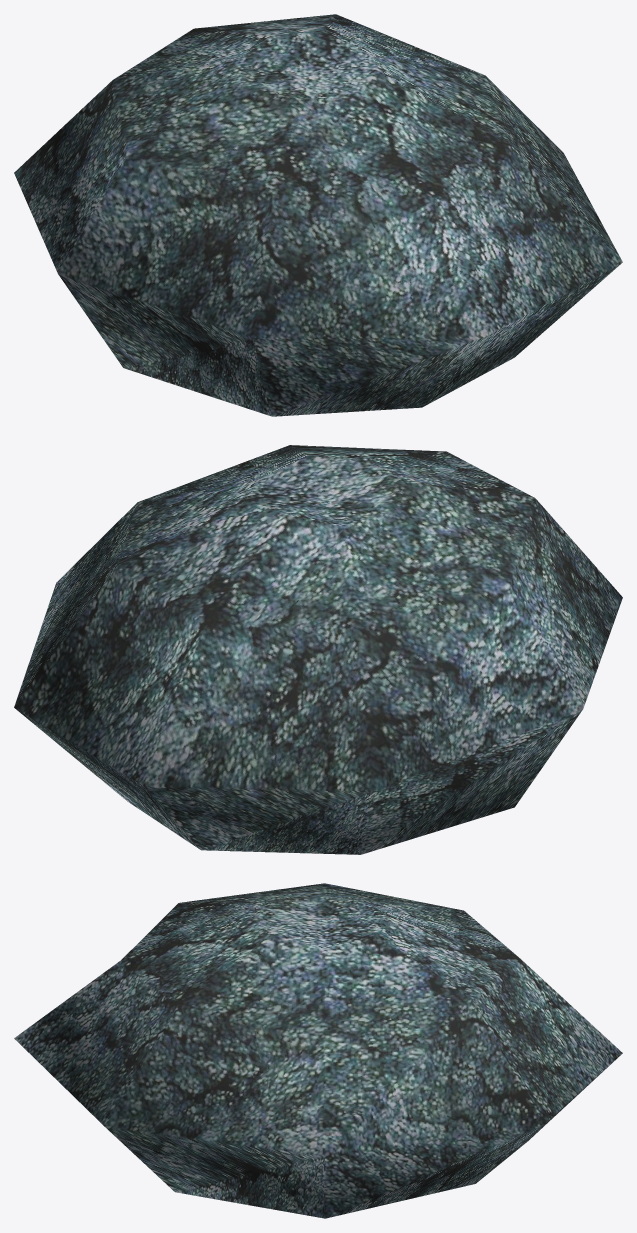
The model's file is rock_crystl_watrbush_flat_l1.fbx.
3 views of the same model, one above another, from view 1: azimuth 30°, elevation 25°; view 2: azimuth 150°, elevation 25°; view 3: azimuth 270°, elevation 25° (orthographic). The views are drawn at different scales.
Parts seen in each view (by area): view 1: mesh_node; view 2: mesh_node; view 3: mesh_node.
Boxes of the visible parts, <box> form: mesh_node: <box>14,14,622,416</box>; mesh_node: <box>14,445,622,854</box>; mesh_node: <box>14,883,622,1218</box>.
Bounding box in the file's own units: 3.34 × 1.65 × 4.04.
